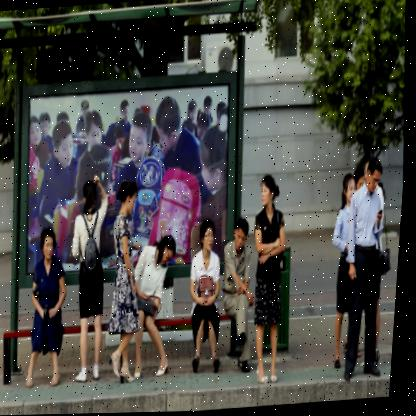person: (318, 148, 401, 391), (238, 175, 297, 383), (59, 171, 116, 382), (93, 179, 150, 381), (315, 172, 370, 369), (16, 218, 75, 387), (123, 220, 189, 369), (215, 212, 266, 369), (182, 217, 228, 366)
